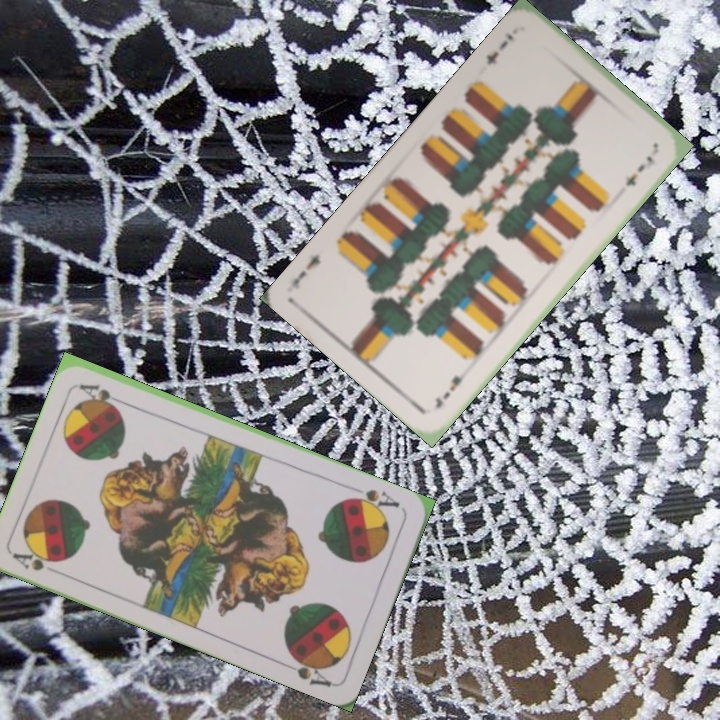E7: (430, 365, 472, 412), (482, 28, 516, 68)
SA: (345, 482, 403, 516), (9, 545, 65, 574)
